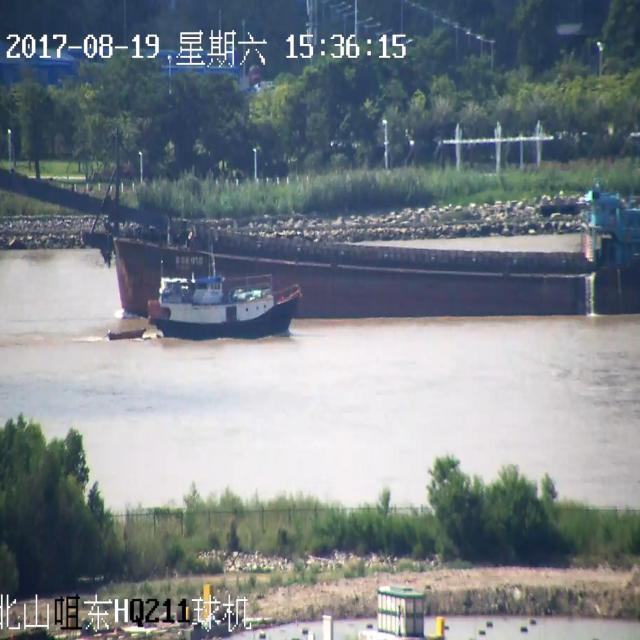cargoship: (2, 138, 640, 348), (125, 251, 302, 363)
